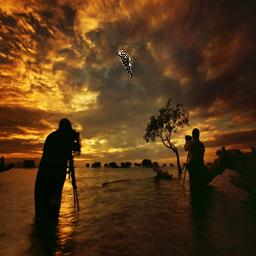Woodpecker: (117, 50, 135, 80)
